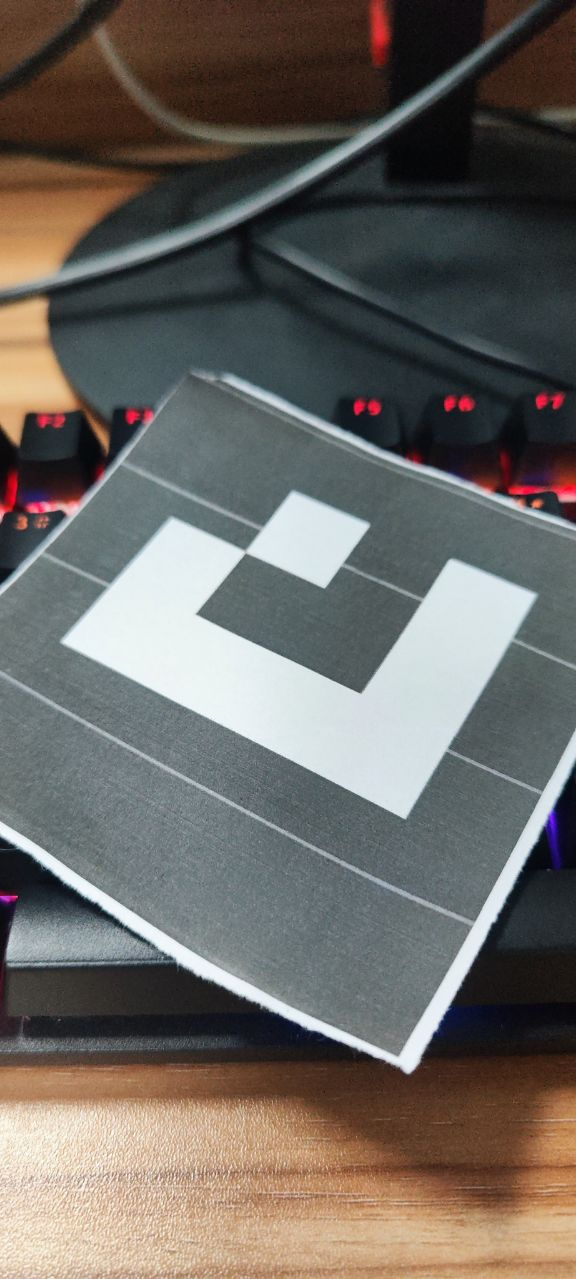mark1: (54, 486, 542, 843)
